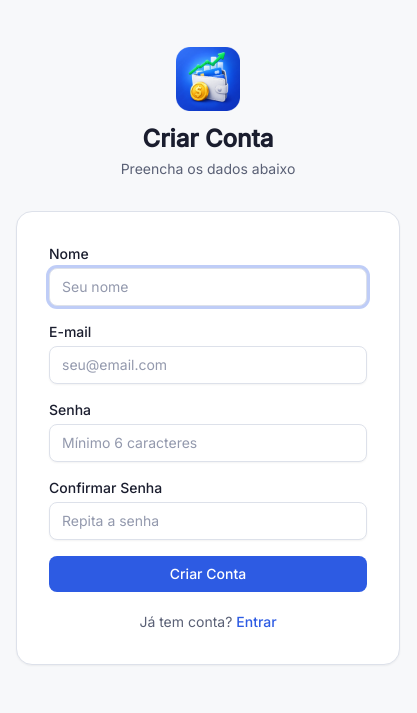
Register › resposta sem sucesso e sem mensagem usa a padrão
Step 1. Type "Ana" into the field labelled "Nome" → [208, 287], box [49,268,367,306]
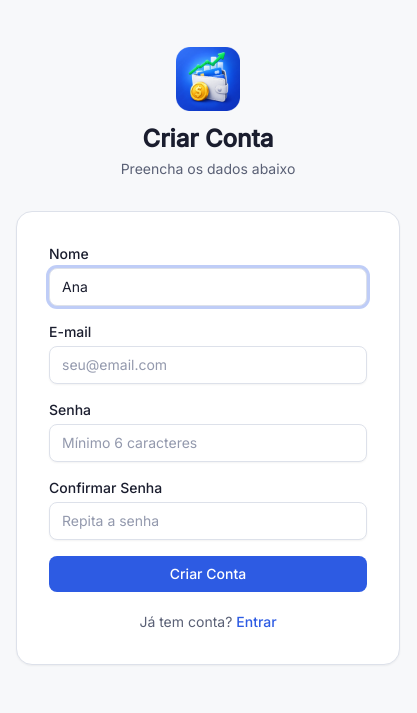
Step 2. Type "ana@exemplo.com" into the field labelled "E-mail" → [208, 365], box [49,346,367,384]
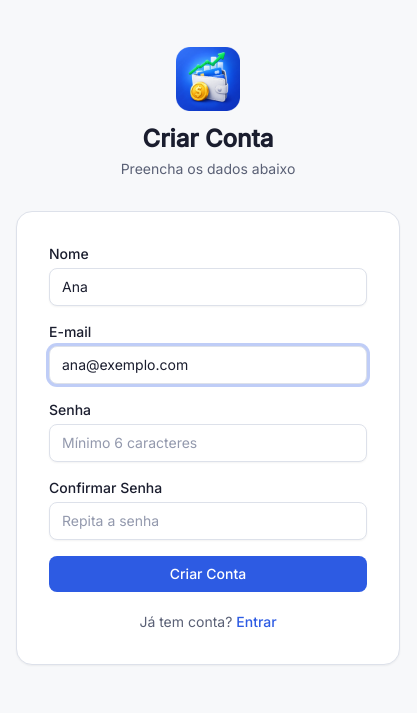
Step 3. Type "segredo1" into the password field labelled "Senha" → [208, 443], box [49,424,367,462]
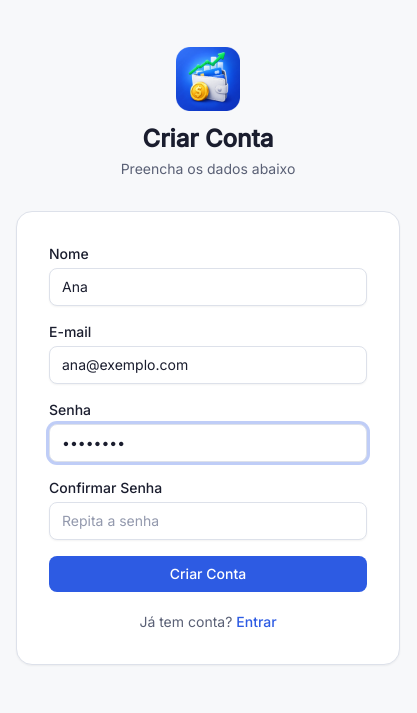
Step 4. Type "segredo1" into the password field labelled "Confirmar Senha" → [208, 521], box [49,502,367,540]
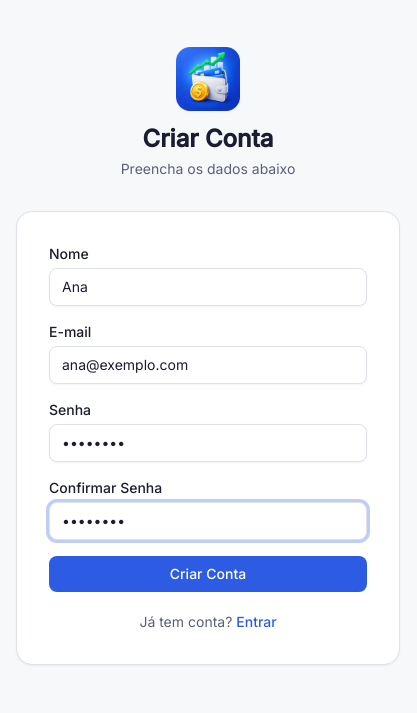
Step 5. Click the button "Criar Conta" → [208, 574], box [49,556,367,592]
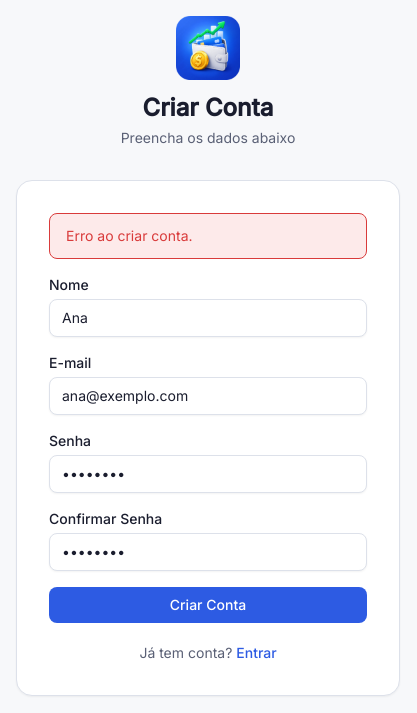
Check: the text "Erro ao criar conta." is shown, box [49,213,367,259]
